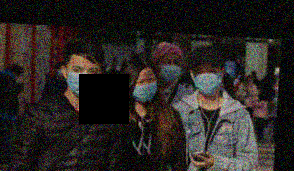with_mask: (63, 62, 100, 98), (194, 62, 222, 95), (130, 73, 158, 104), (157, 56, 182, 82)
